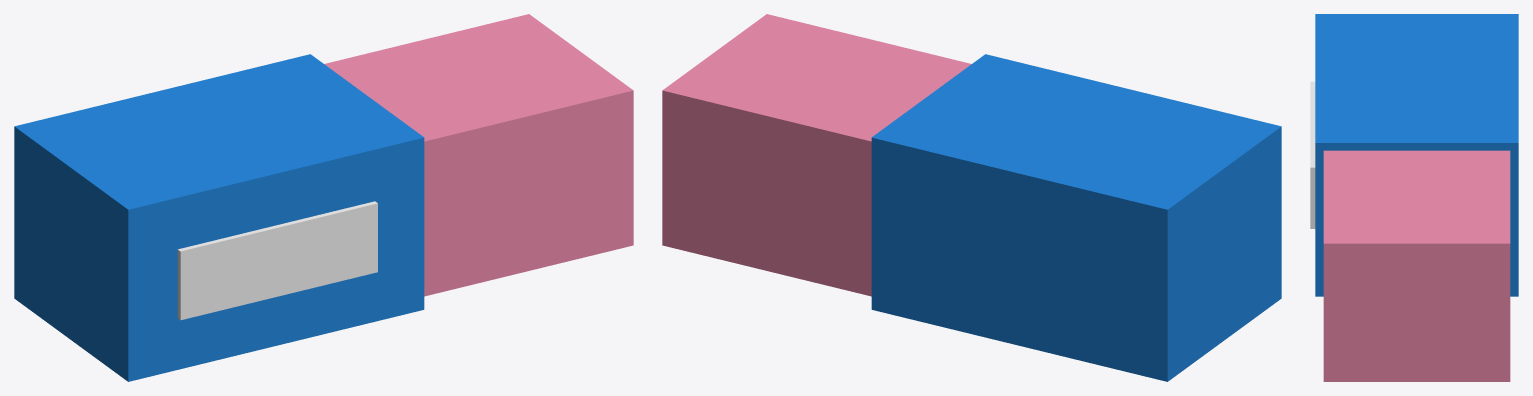
File: suddgummi.glb
3 renders of one model, left to right at view 1: azimuth 30°, elevation 25°; view 2: azimuth 150°, elevation 25°; view 3: azimuth 270°, elevation 25°, orthographic. The views are drawn at different scales.
Parts seen in each view (by area): view 1: suddgummi; view 2: suddgummi; view 3: suddgummi.
Boxes of the visible parts, x1,y1,x2,y2 form: suddgummi: [14, 14, 633, 381]; suddgummi: [662, 14, 1281, 381]; suddgummi: [1310, 14, 1518, 381].
Size of the model in its own units: 0.31 by 0.1 by 0.123.
